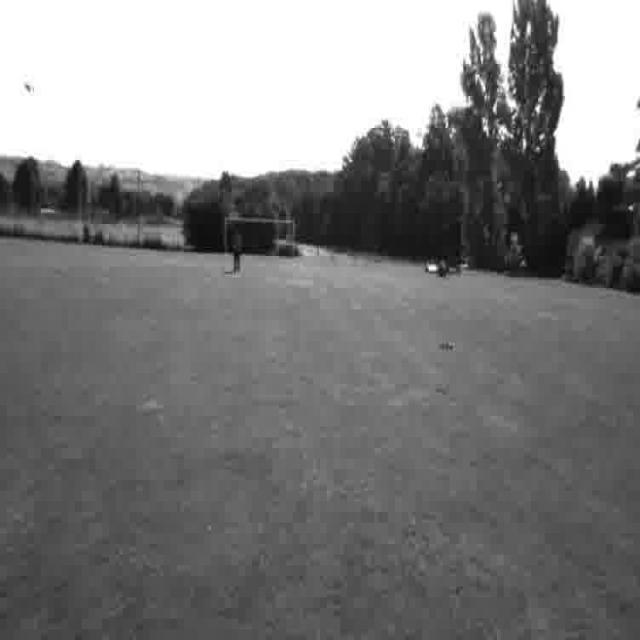drones: (420, 255, 474, 287)
